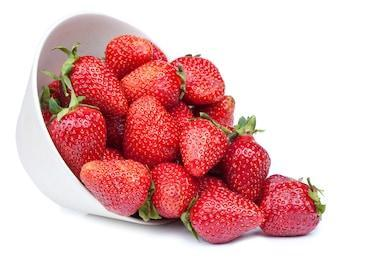Fresa: (44, 101, 115, 184), (187, 184, 267, 250), (56, 50, 130, 120), (78, 156, 156, 221), (101, 29, 174, 89), (257, 177, 323, 239), (173, 113, 232, 180), (120, 96, 178, 164), (221, 129, 273, 203), (117, 57, 187, 110), (147, 158, 200, 221), (169, 53, 227, 105)
